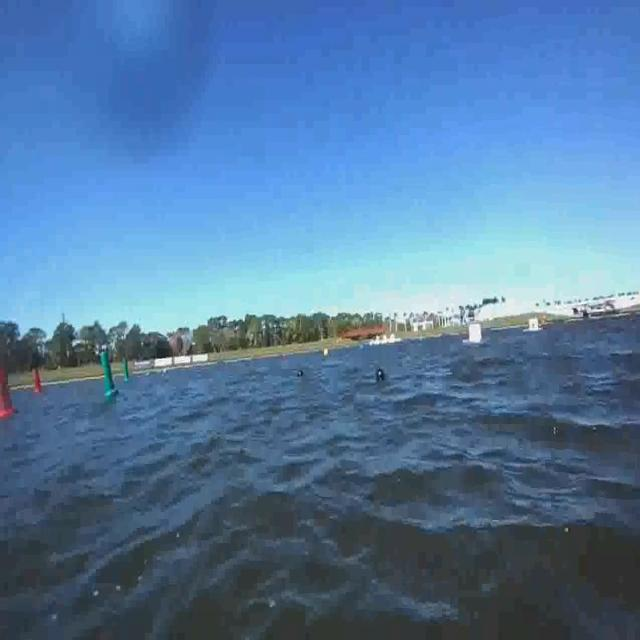green-column-buoy: (100, 350, 118, 398), (122, 354, 130, 384)
red-column-buoy: (0, 366, 17, 419), (30, 365, 42, 394)
